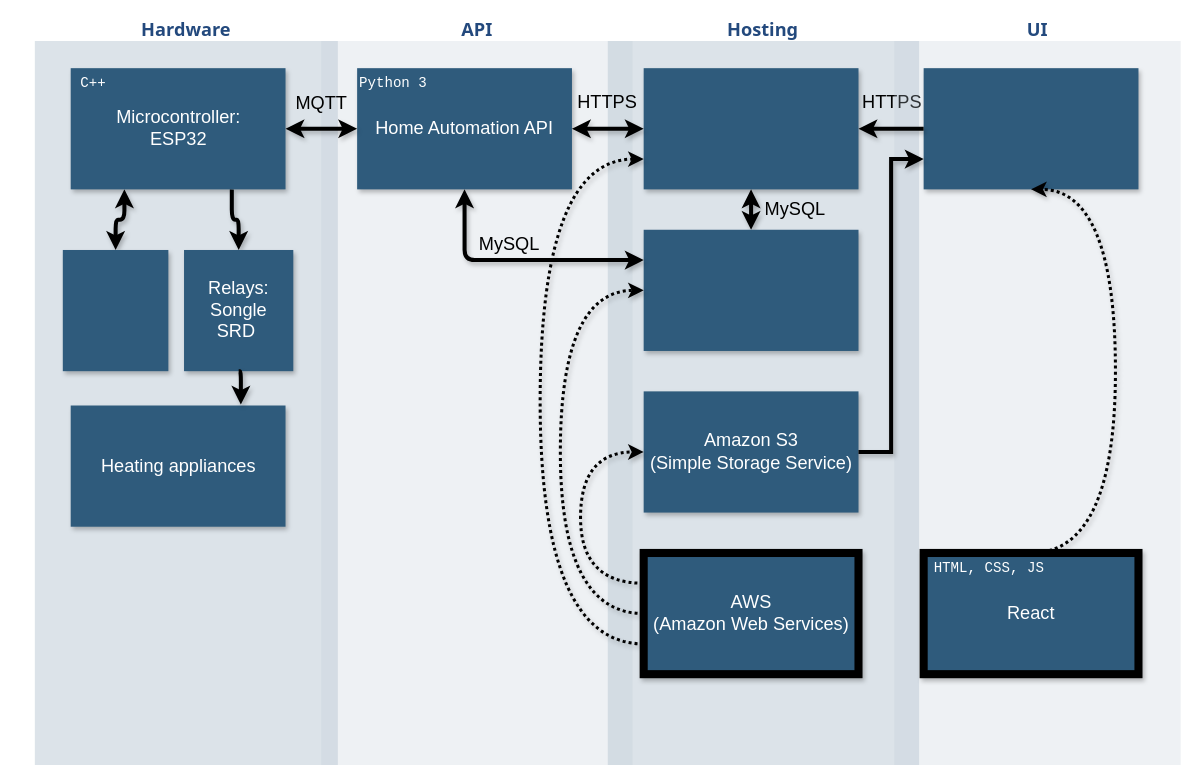
Some shapes in this 1198 by 782 pixel diagram are drawn without their labels. Here are the shapes that lost their labels. From the top down, the centre of each, then its label:
At [751,130]: "EC2 (Elastic Compute Cloud)".
At [1031,130]: "Web Application".
At [116,311]: "Sensors: DS18B20".
At [751,291]: "Amazon RDS (Relational Database Service)".
